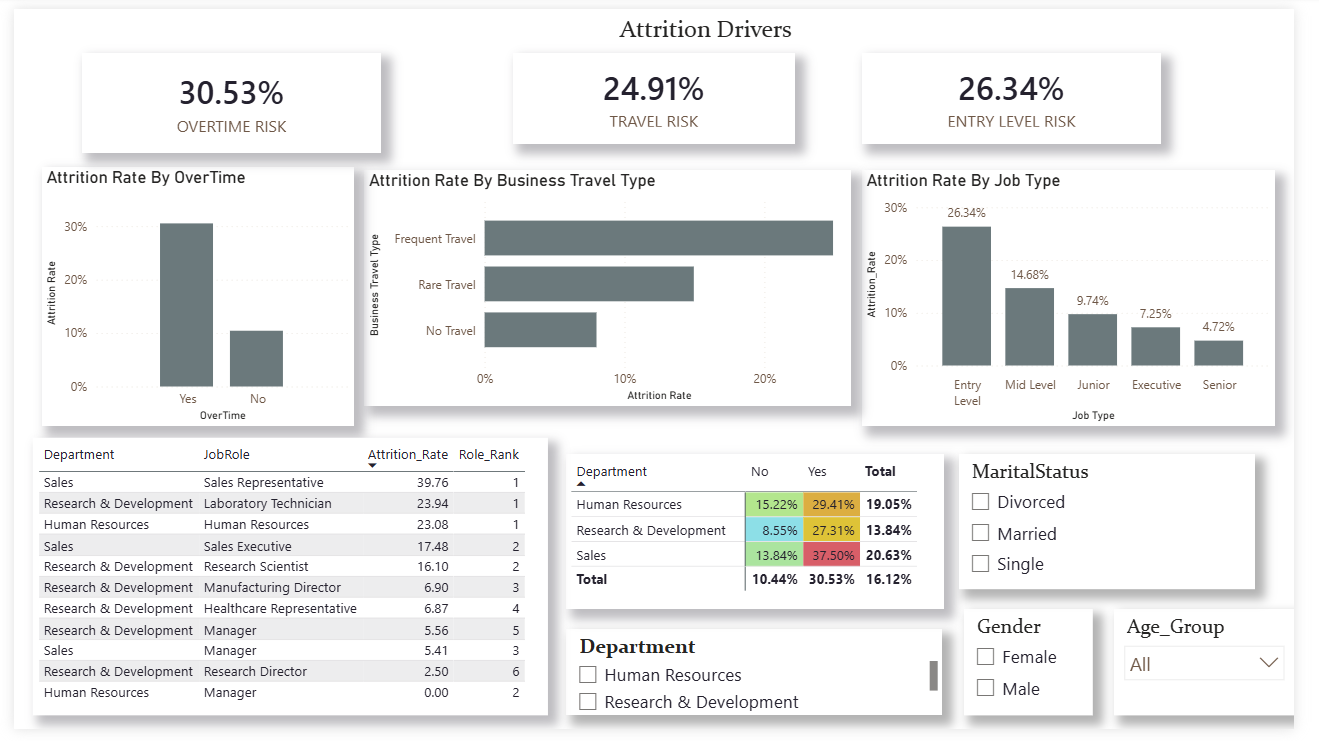

Layout of this report page (visuals, bound fields, positions):
{"tool":"powerbi","page":{"name":"2_Attrition_Drivers","canvas":[1280,720],"ordinal":1},"visuals":[{"type":"clusteredColumnChart","title":"Attrition Rate By OverTime","fields":{"Y":["Fact_Attrition.Attrition_Rate"],"Category":["Dim_Job.OverTime"]},"box":[27.5,157.5,312.5,260],"z":0},{"type":"clusteredColumnChart","title":"Attrition Rate By Job Type","fields":{"Y":["Fact_Attrition.Attrition_Rate"],"Category":["Dim_Job.Job_Type_"]},"box":[847.5,161.2,413.8,256.2],"z":1000},{"type":"pivotTable","fields":{"Rows":["Dim_Job.Department"],"Columns":["Dim_Job.OverTime"],"Values":["Fact_Attrition.Attrition_Rate"]},"box":[552.5,445,377.5,155],"z":2000},{"type":"tableEx","fields":{"Values":["vw_TopRiskRoles.Department","vw_TopRiskRoles.JobRole","vw_TopRiskRoles.Attrition_Rate","vw_TopRiskRoles.Role_Rank"]},"box":[18.8,428.8,515,277.5],"z":3000},{"type":"textbox","box":[571.2,0,241.2,43.8],"z":4000},{"type":"slicer","fields":{"Values":["Dim_Job.Department"]},"box":[552.5,620,376.2,86.2],"z":5000},{"type":"slicer","fields":{"Values":["Dim_Employee.Gender"]},"box":[950,600,128.8,106.2],"z":6000},{"type":"slicer","fields":{"Values":["Dim_Employee.Age_Group"]},"box":[1100,600,180,106.2],"z":7000},{"type":"slicer","fields":{"Values":["Dim_Employee.MaritalStatus"]},"box":[945,445,296.2,135],"z":8000},{"type":"clusteredBarChart","title":"Attrition Rate By Business Travel Type","fields":{"Category":["Dim_Job.BusinessTravel_Type"],"Y":["Fact_Attrition.Attrition_Rate"]},"box":[350,161.2,487.5,236.2],"z":9000},{"type":"cardVisual","fields":{"Data":["Fact_Attrition.OverTime Attrition Rate"]},"box":[67.5,43.8,300,100],"z":10000},{"type":"cardVisual","fields":{"Data":["Fact_Attrition.Frequent Travel Measure"]},"box":[498.8,43.8,282.5,91.2],"z":11000},{"type":"cardVisual","fields":{"Data":["Fact_Attrition.Entry Level Attrition"]},"box":[847.5,43.8,300,91.2],"z":12000}]}

Visuals, with their boxes in screenshot pixels (x1, y1, x2, y2), scaled from the page's 1280x720 canvas onto the 1319x741 screenshot:
"Attrition Rate By OverTime" clusteredColumnChart: detection(28, 162, 350, 430)
"Attrition Rate By Job Type" clusteredColumnChart: detection(873, 166, 1300, 430)
pivotTable - Dim_Job.Department x Dim_Job.OverTime: detection(569, 458, 958, 617)
tableEx - vw_TopRiskRoles.Department x vw_TopRiskRoles.JobRole: detection(19, 441, 550, 727)
textbox: detection(589, 0, 837, 45)
slicer - Dim_Job.Department: detection(569, 638, 957, 727)
slicer - Dim_Employee.Gender: detection(979, 617, 1112, 727)
slicer - Dim_Employee.Age_Group: detection(1134, 617, 1318, 727)
slicer - Dim_Employee.MaritalStatus: detection(974, 458, 1279, 597)
"Attrition Rate By Business Travel Type" clusteredBarChart: detection(361, 166, 863, 409)
cardVisual - Fact_Attrition.OverTime Attrition Rate: detection(70, 45, 379, 148)
cardVisual - Fact_Attrition.Frequent Travel Measure: detection(514, 45, 805, 139)
cardVisual - Fact_Attrition.Entry Level Attrition: detection(873, 45, 1182, 139)
